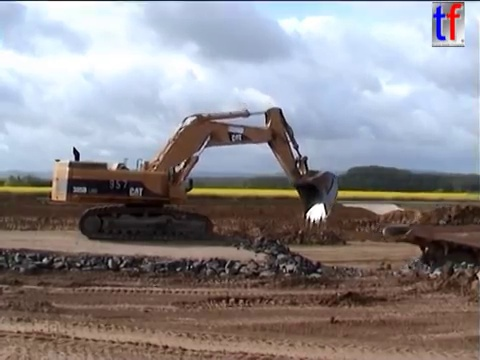excavator: (48, 105, 341, 243)
truck: (379, 220, 480, 289)
